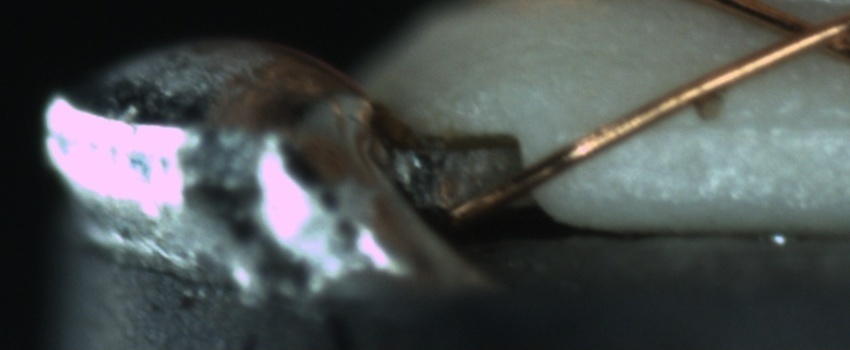CL: (754, 2, 850, 65)
DL: (668, 90, 850, 159)
